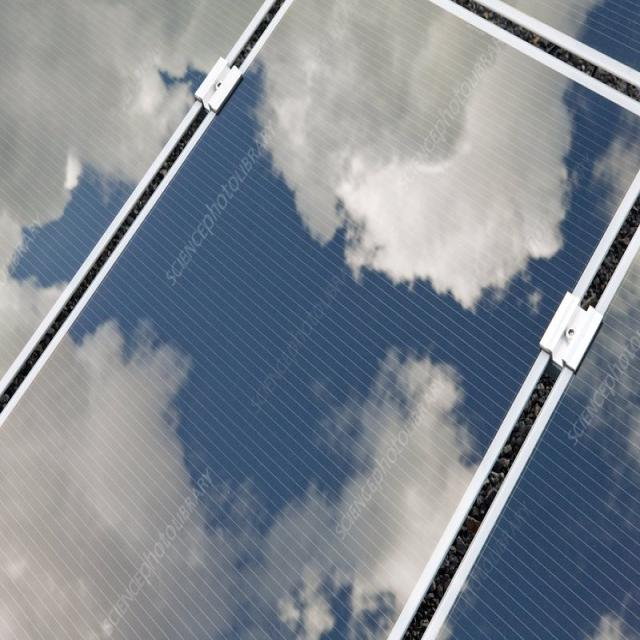clean-solar-panel: (1, 0, 640, 637)
